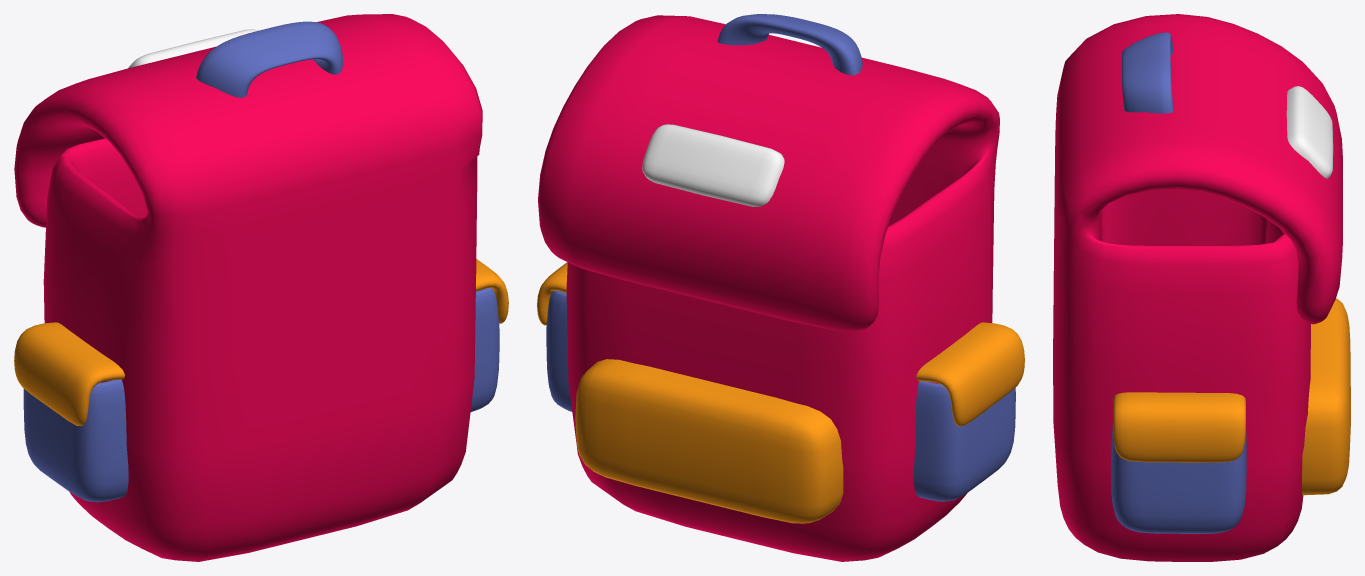
Rendered from Player_Backpag.fbx.
3 renders of one model, left to right at view 1: azimuth 30°, elevation 25°; view 2: azimuth 150°, elevation 25°; view 3: azimuth 270°, elevation 25°, orthographic. The views are drawn at different scales.
Visible parts, largest first — view 1: Player_Backpag_Pink; view 2: Player_Backpag_Pink; view 3: Player_Backpag_Pink.
Boxes of the visible parts, x1=… form: Player_Backpag_Pink: x1=14, y1=14, x2=508, y2=561; Player_Backpag_Pink: x1=537, y1=14, x2=1024, y2=561; Player_Backpag_Pink: x1=1053, y1=14, x2=1350, y2=561.
Bounding box in the file's own units: 1.15 × 1.25 × 0.7214.
